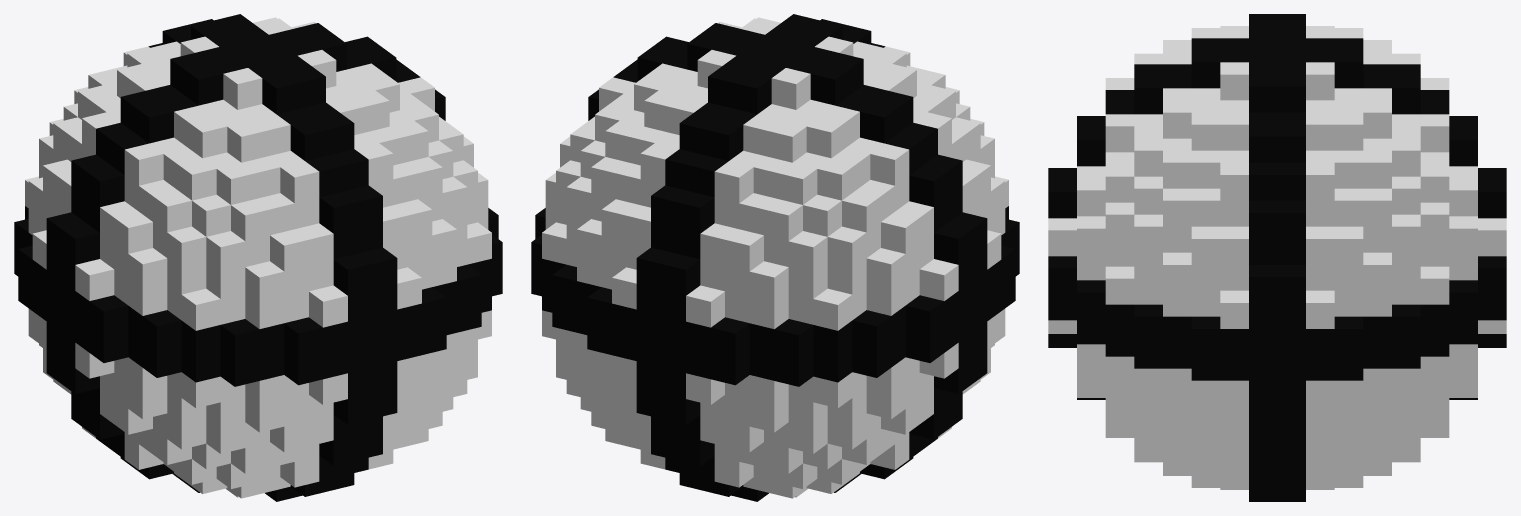
Rendered from Ball.obj.
3 renders of one model, left to right at view 1: azimuth 30°, elevation 25°; view 2: azimuth 150°, elevation 25°; view 3: azimuth 270°, elevation 25°, orthographic.
Bounding box in the file's own units: 1.6 × 1.6 × 1.6.
1 material, 1 textured.
